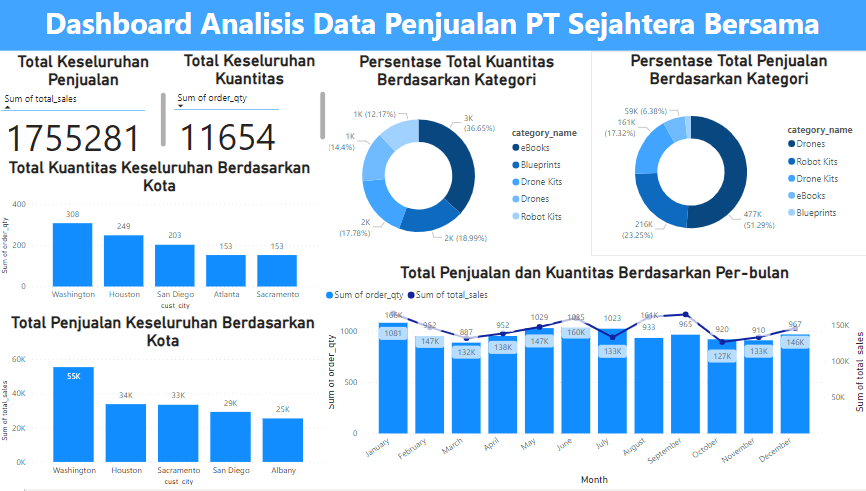

The dashboard page shown, as its layout file describes it:
{"tool":"powerbi","page":{"name":"Page 1","canvas":[1280,720],"ordinal":0},"visuals":[{"type":"tableEx","title":"Total Keseluruhan Penjualan","fields":{"Values":["Sum(Sheet1.total_sales)"]},"box":[0,78,254,156],"z":0},{"type":"donutChart","title":"Persentase Total Kuantitas Berdasarkan Kategori","fields":{"Category":["Sheet1.category_name"],"Y":["Sum(Sheet1.order_qty)"]},"box":[478,78,396,310],"z":1000},{"type":"tableEx","title":"Total Keseluruhan Kuantitas","fields":{"Values":["Sum(Sheet1.order_qty)"]},"box":[254,76,234,152],"z":2000},{"type":"donutChart","title":"Persentase Total Penjualan Berdasarkan Kategori","fields":{"Y":["Sum(Sheet1.total_sales)"],"Category":["Sheet1.category_name"]},"box":[874,76,406,302],"z":3000},{"type":"textbox","box":[0,0,1280,76],"z":4000},{"type":"lineStackedColumnComboChart","title":"Total Penjualan dan Kuantitas Berdasarkan Per-bulan","fields":{"Category":["Sheet1.order_date.Variation.Date Hierarchy.Month"],"Y":["Sum(Sheet1.order_qty)"],"Y2":["Sum(Sheet1.total_sales)"]},"box":[478,388,802,332],"z":5000},{"type":"columnChart","title":"Total Penjualan Keseluruhan Berdasarkan Kota","fields":{"Category":["Sheet1.cust_city"],"Y":["Sum(Sheet1.total_sales)"]},"box":[0,462,488,258],"z":6000},{"type":"columnChart","title":"Total Kuantitas Keseluruhan Berdasarkan Kota","fields":{"Y":["Sum(Sheet1.order_qty)"],"Category":["Sheet1.cust_city"]},"box":[0,234,478,228],"z":7000}]}

Visuals, with their boxes in screenshot pixels (x1, y1, x2, y2), scaled from the page's 1280x720 canvas onto the 866x491 screenshot:
"Total Keseluruhan Penjualan" tableEx: region(0, 53, 172, 160)
"Persentase Total Kuantitas Berdasarkan Kategori" donutChart: region(323, 53, 591, 265)
"Total Keseluruhan Kuantitas" tableEx: region(172, 52, 330, 155)
"Persentase Total Penjualan Berdasarkan Kategori" donutChart: region(591, 52, 865, 258)
textbox: region(0, 0, 865, 52)
"Total Penjualan dan Kuantitas Berdasarkan Per-bulan" lineStackedColumnComboChart: region(323, 265, 865, 490)
"Total Penjualan Keseluruhan Berdasarkan Kota" columnChart: region(0, 315, 330, 490)
"Total Kuantitas Keseluruhan Berdasarkan Kota" columnChart: region(0, 160, 323, 315)
